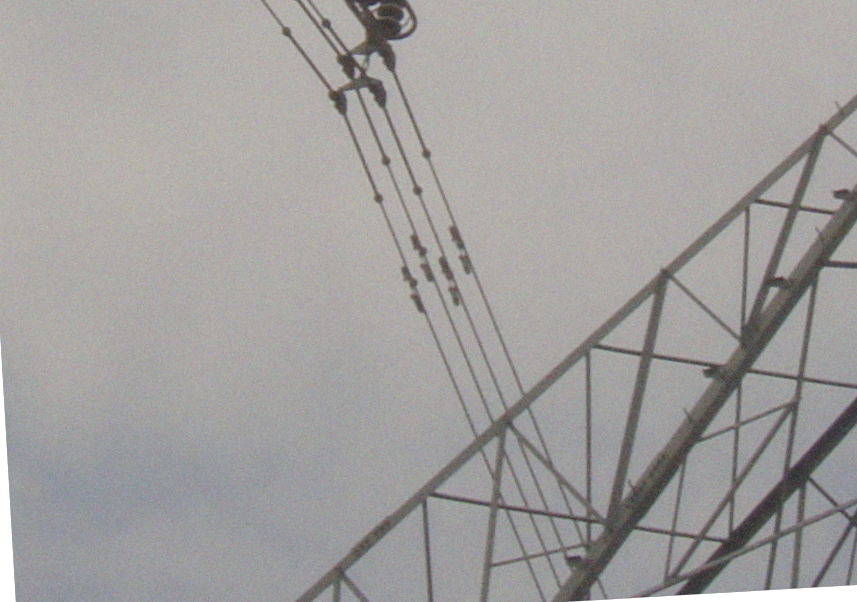damper: (443, 222, 475, 275), (407, 229, 435, 283), (398, 260, 425, 315), (437, 252, 461, 308)
